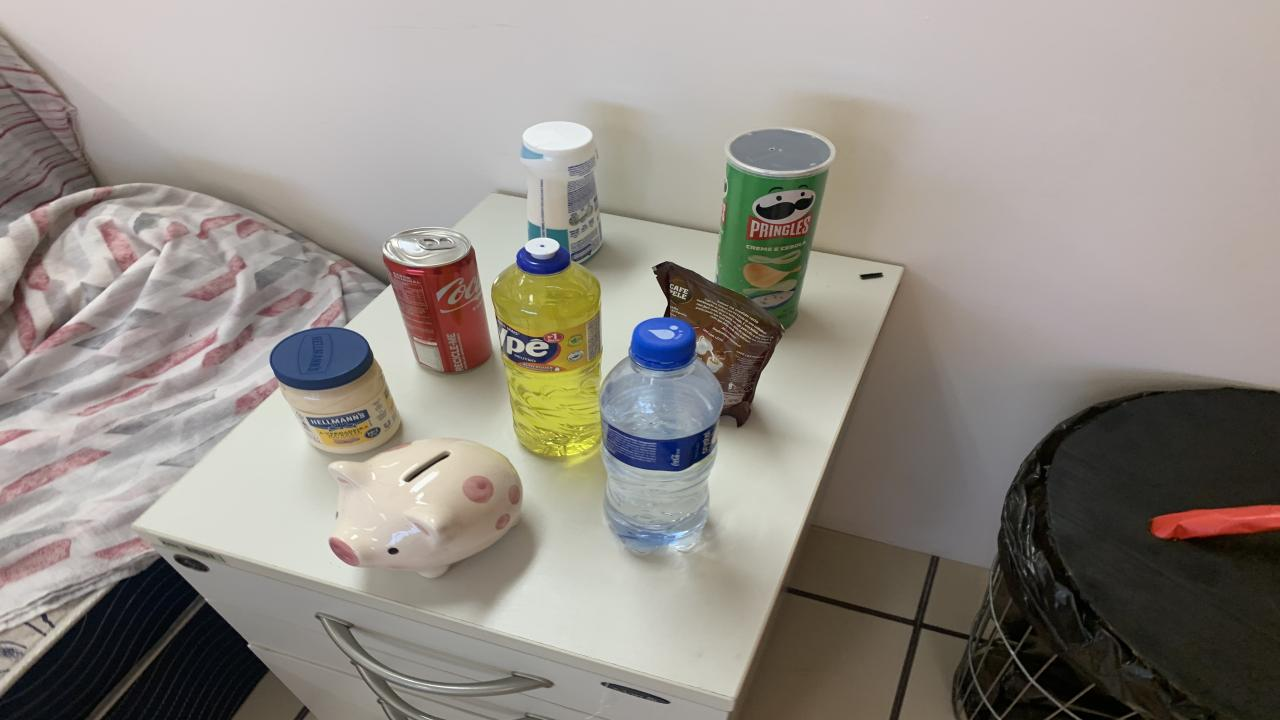Cleaner-Cleanup_Items: (520, 122, 602, 262)
Coffee-Pantry_Items: (652, 262, 782, 426)
Coke-Drinks: (382, 227, 492, 373)
Detergent-Cleanup_Items: (492, 236, 602, 456)
Mayonnaise-Pantry_Items: (270, 328, 400, 454)
Pig_Safe-Miscellaneous: (328, 439, 522, 578)
Pringles-Snacks: (718, 128, 835, 326)
Water_Bottle-Drinks: (600, 317, 722, 553)
